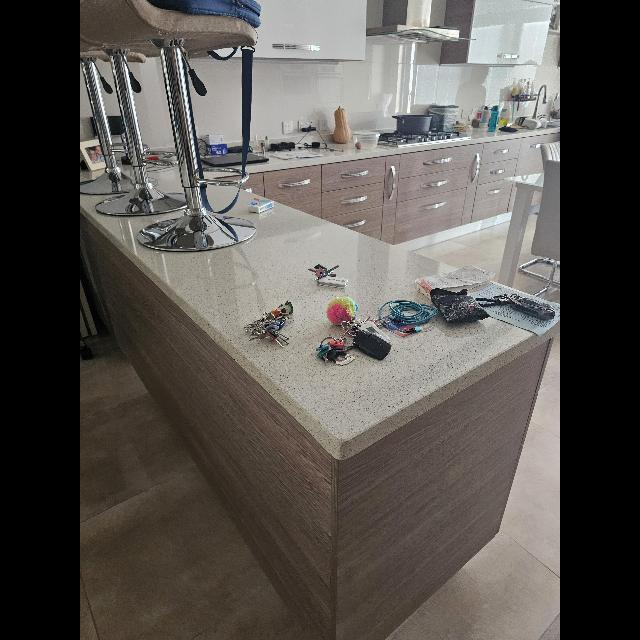Keys: (316, 311, 388, 364), (244, 300, 294, 348), (316, 335, 356, 365), (312, 264, 348, 288)
